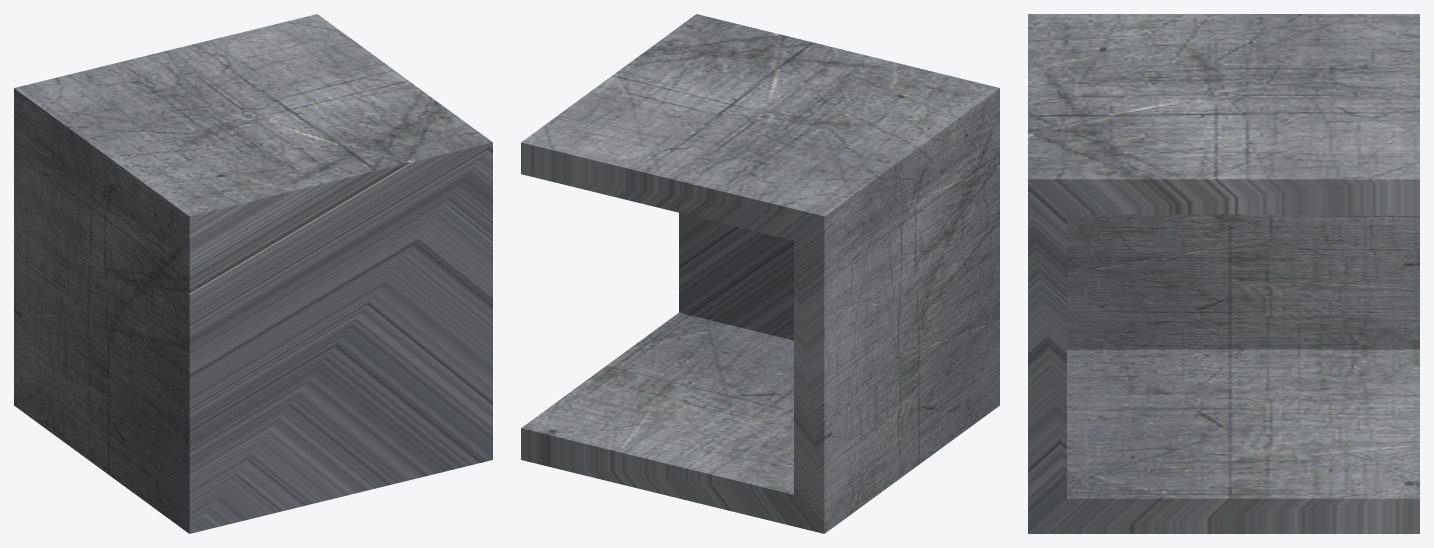
File: TheOuterLevel.fbx_3x3_Corner.fbx
The picture shows the model from 3 angles, left to right: view 1: azimuth 30°, elevation 25°; view 2: azimuth 150°, elevation 25°; view 3: azimuth 270°, elevation 25°; orthographic projection. The views are drawn at different scales.
Parts seen in each view (by area): view 1: 3x3_Corner; view 2: 3x3_Corner; view 3: 3x3_Corner.
Part boxes in pixels (x1,y1,x2,y2): 3x3_Corner: (14,14,492,533); 3x3_Corner: (521,14,999,533); 3x3_Corner: (1028,14,1419,533).
Size of the model in its own units: 300 by 300 by 300.
1 material, 1 textured.
